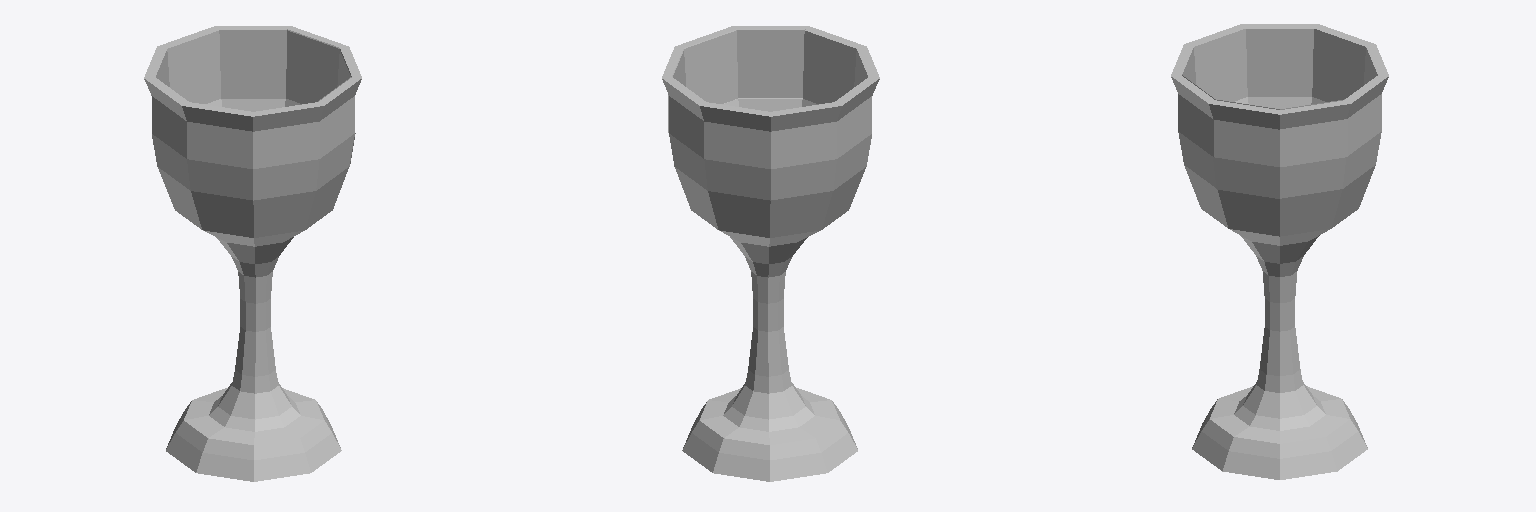
Rendered from Texture_Goblet.obj.
3 views of the same model, side by side, from view 1: azimuth 30°, elevation 25°; view 2: azimuth 150°, elevation 25°; view 3: azimuth 270°, elevation 25° (orthographic).
Visible parts, largest first — view 1: pCylinder1; view 2: pCylinder1; view 3: pCylinder1.
Part boxes in pixels (left/top/right/bottom): pCylinder1: left=144, top=26, right=361, bottom=481; pCylinder1: left=662, top=26, right=879, bottom=481; pCylinder1: left=1171, top=24, right=1388, bottom=479.
Size of the model in its own units: 8.74 by 16.82 by 8.87.